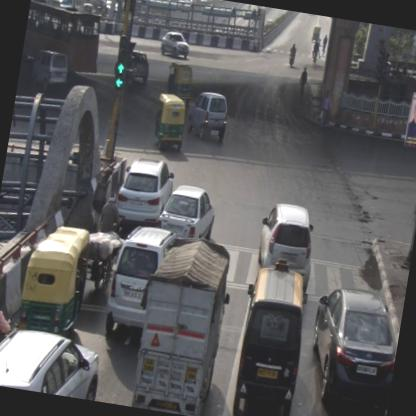bus: (22, 0, 104, 70)
car: (225, 253, 314, 415), (302, 284, 404, 414), (103, 223, 178, 342), (0, 321, 105, 400), (254, 200, 320, 280), (113, 153, 176, 231), (156, 180, 218, 244), (184, 90, 230, 144), (30, 48, 70, 94), (119, 49, 152, 86), (158, 30, 192, 61), (57, 0, 86, 15)
motorcycle: (86, 191, 122, 295), (309, 38, 321, 66), (287, 42, 297, 68)
truck: (132, 229, 237, 415)
